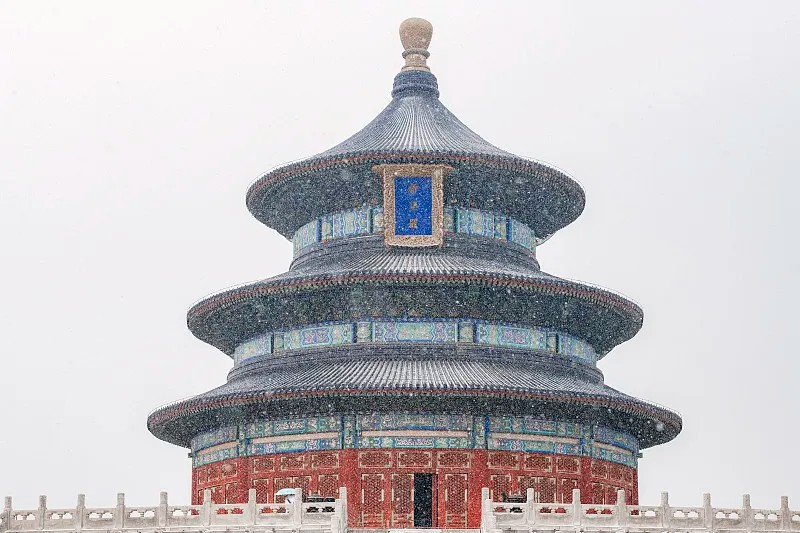Heaven: (146, 18, 682, 530)
